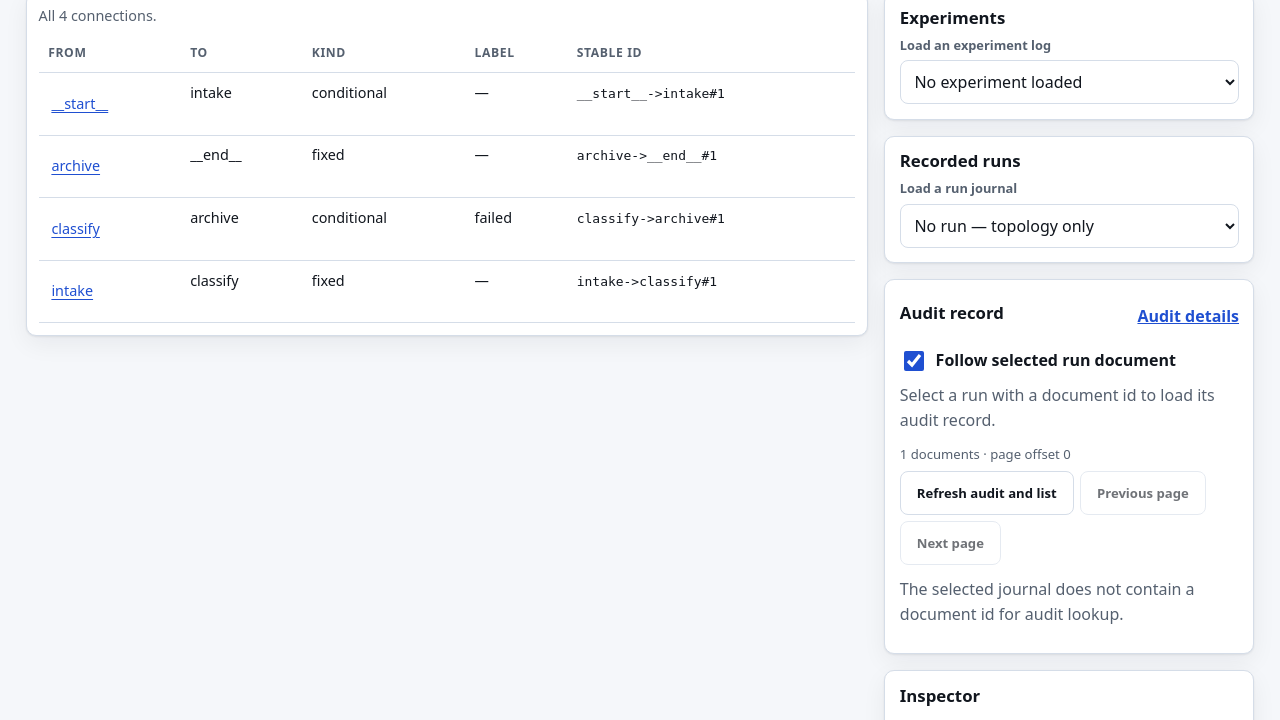
Test: detail requests and partial failures › distinguishes an unavailable store from a missing audit record
This screenshot has width=1280, height=720.
(page scrolled)
Expected: the text "All 4 connections." is shown, [39,6,157,25]
Click the checkbox labelled "Follow selected run document": (914, 361) [904,351,924,371]
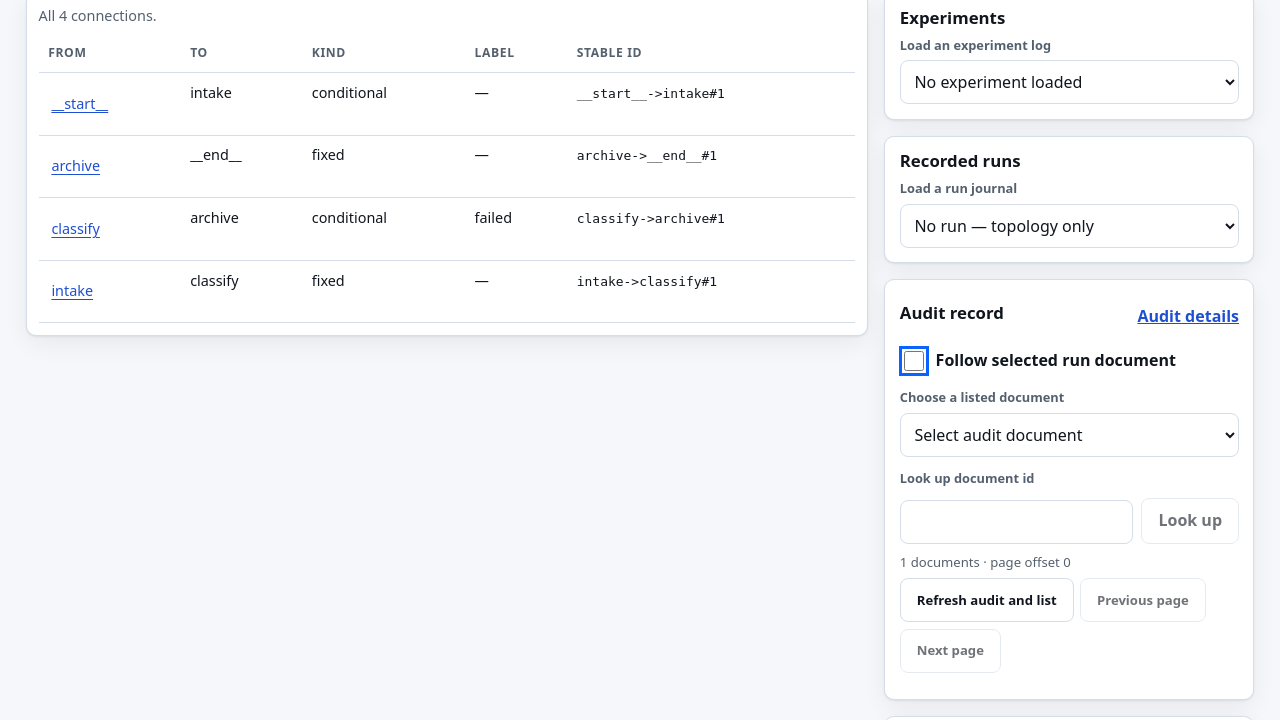
In the field labelled "Look up document id": (1017, 522) [900,500,1133,544], type "DOC-MISSING"
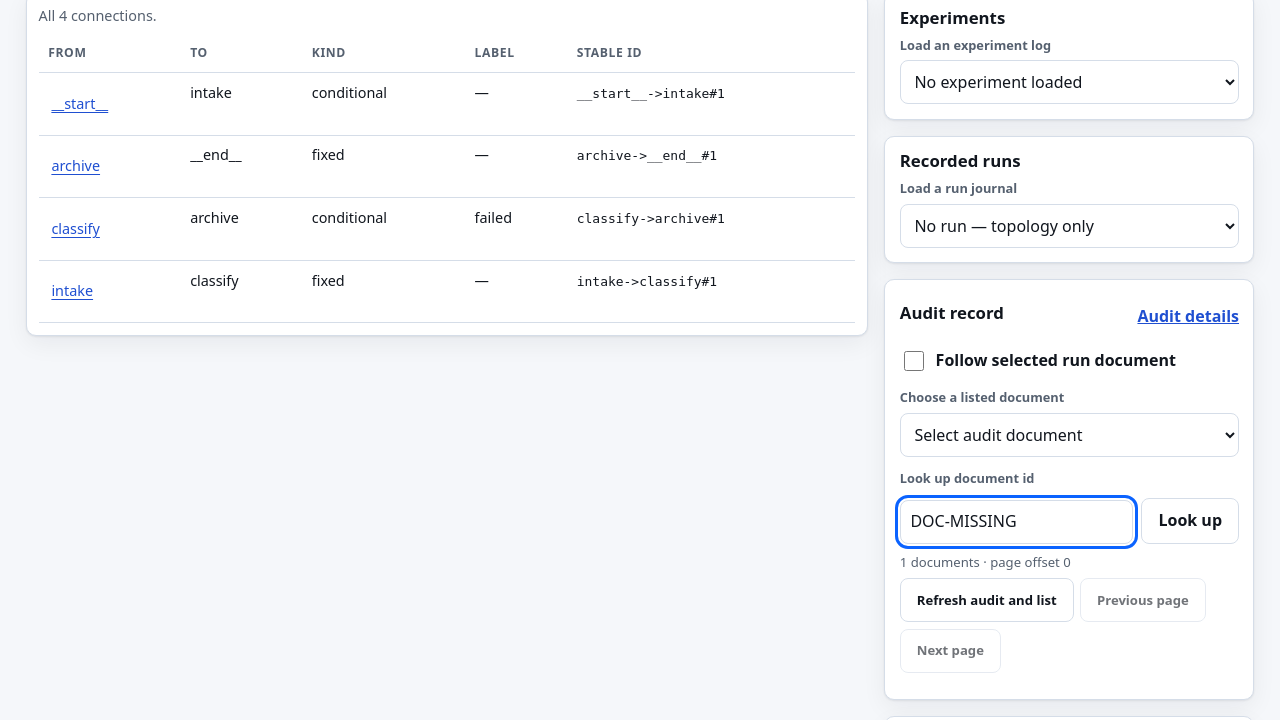
Click the button "Look up": (1190, 520) [1141,498,1239,544]
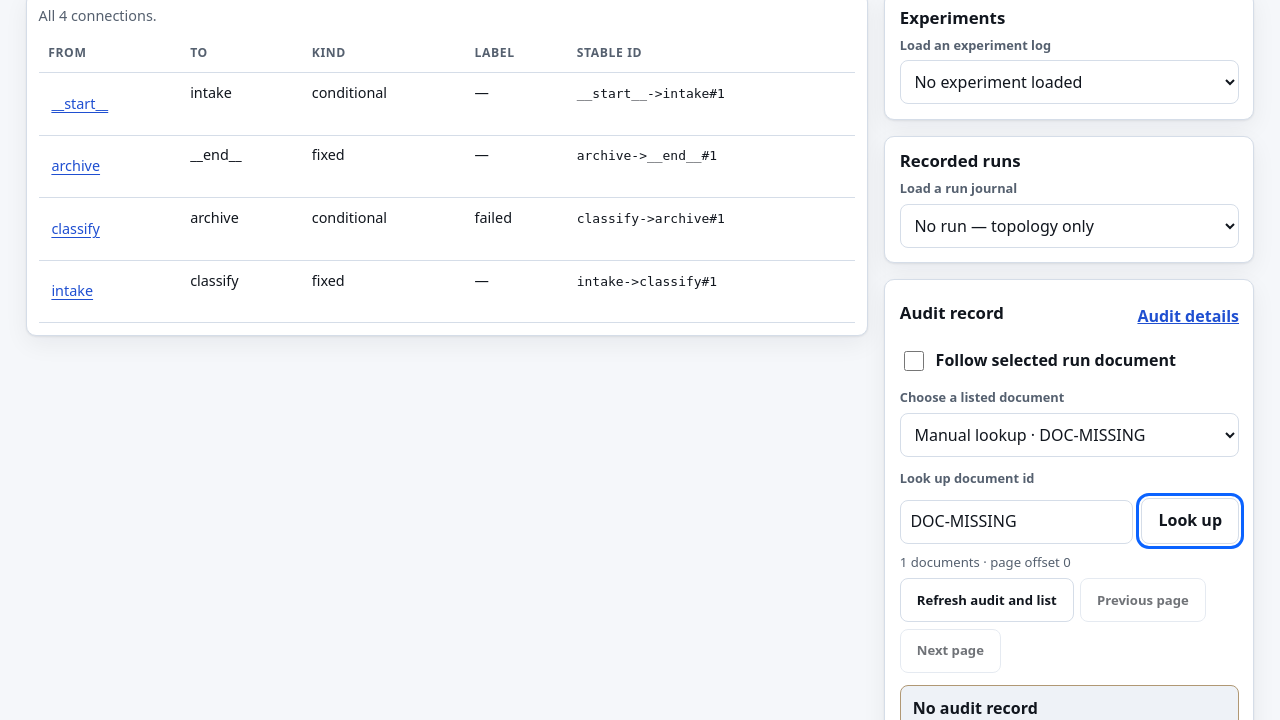
Expected: the text "No audit record" is shown, [913,697,1038,719]
Replace the text in the field labelled "Look up document id" with "DOC-UNAVAILABLE": (1017, 522) [900,500,1133,544]
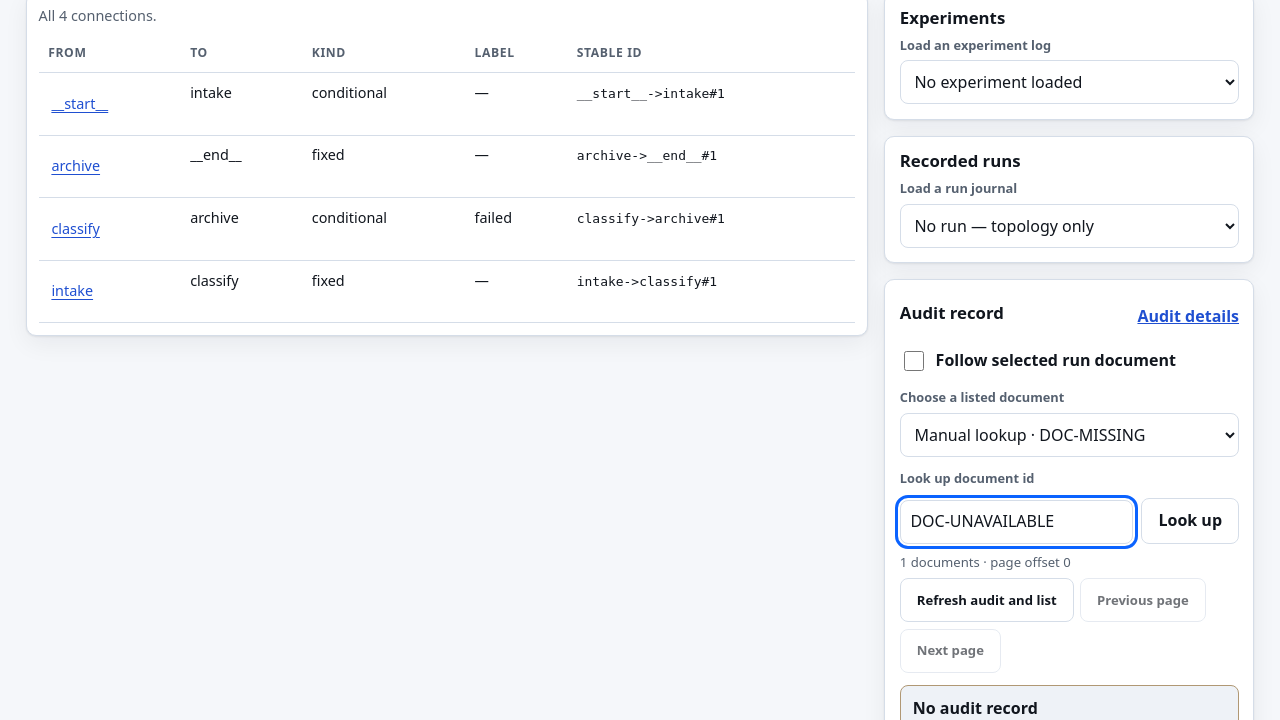
Click the button "Look up": (1190, 520) [1141,498,1239,544]
(page scrolled)
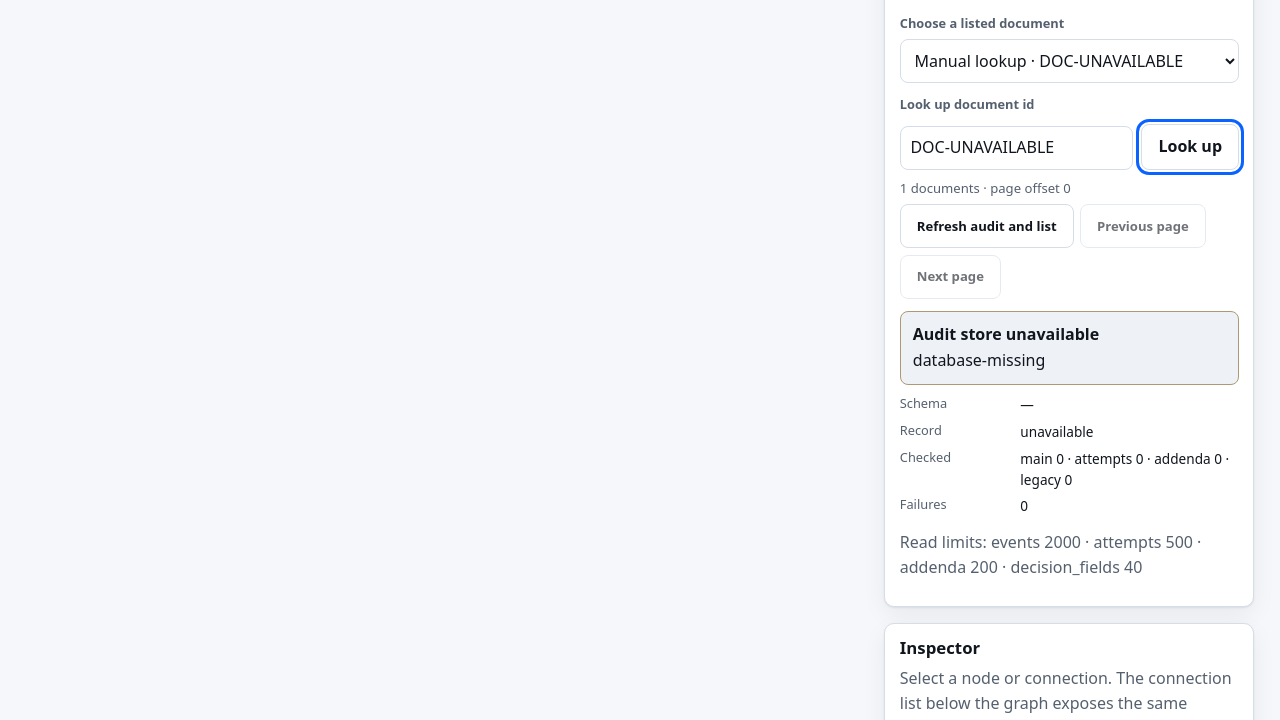
Expected: the text "Audit store unavailable" is shown, [913,323,1099,345]
Expected: the text "database-missing" is shown, [913,349,1045,371]
